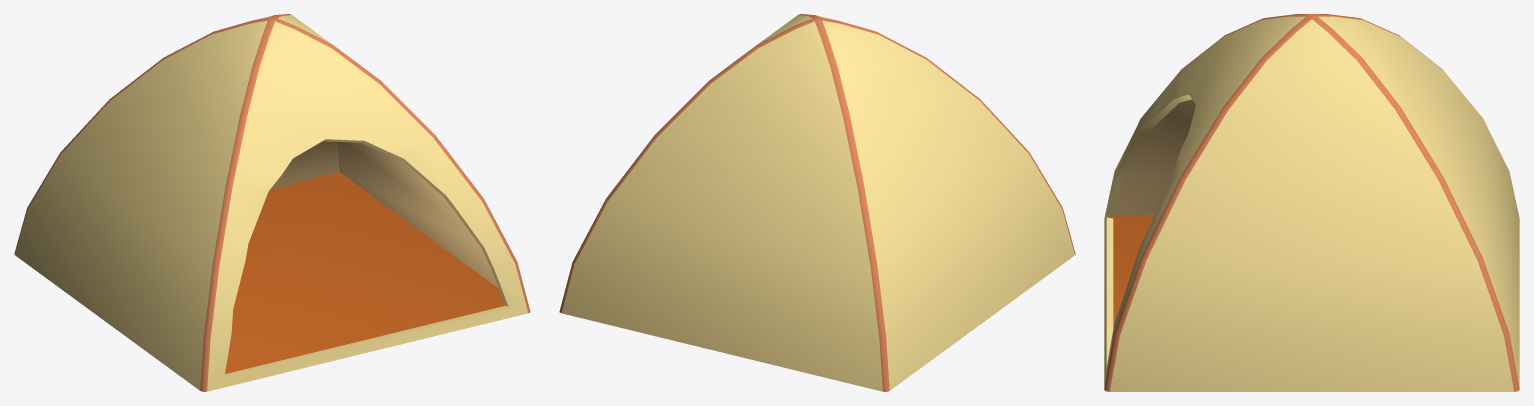
The model's file is Tent_02.fbx.
3 renders of one model, left to right at view 1: azimuth 30°, elevation 25°; view 2: azimuth 150°, elevation 25°; view 3: azimuth 270°, elevation 25°, orthographic. The views are drawn at different scales.
Visible parts, largest first — view 1: Tent_02; view 2: Tent_02; view 3: Tent_02.
Part boxes in pixels (<box>): Tent_02: <box>14,14,530,391</box>; Tent_02: <box>559,14,1075,391</box>; Tent_02: <box>1104,14,1519,391</box>.
Size of the model in its own units: 166 by 127 by 166.
